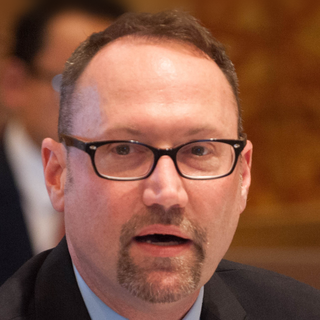eye: (102, 136, 146, 162), (179, 136, 217, 162)
